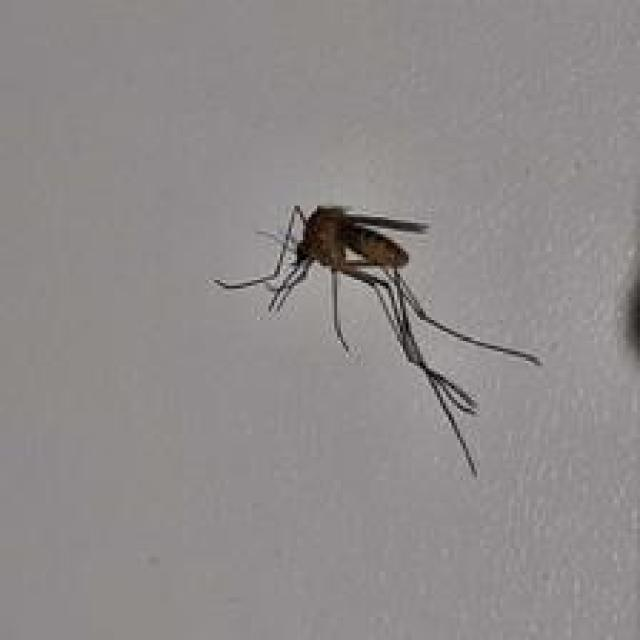Culex: (211, 200, 543, 477)
